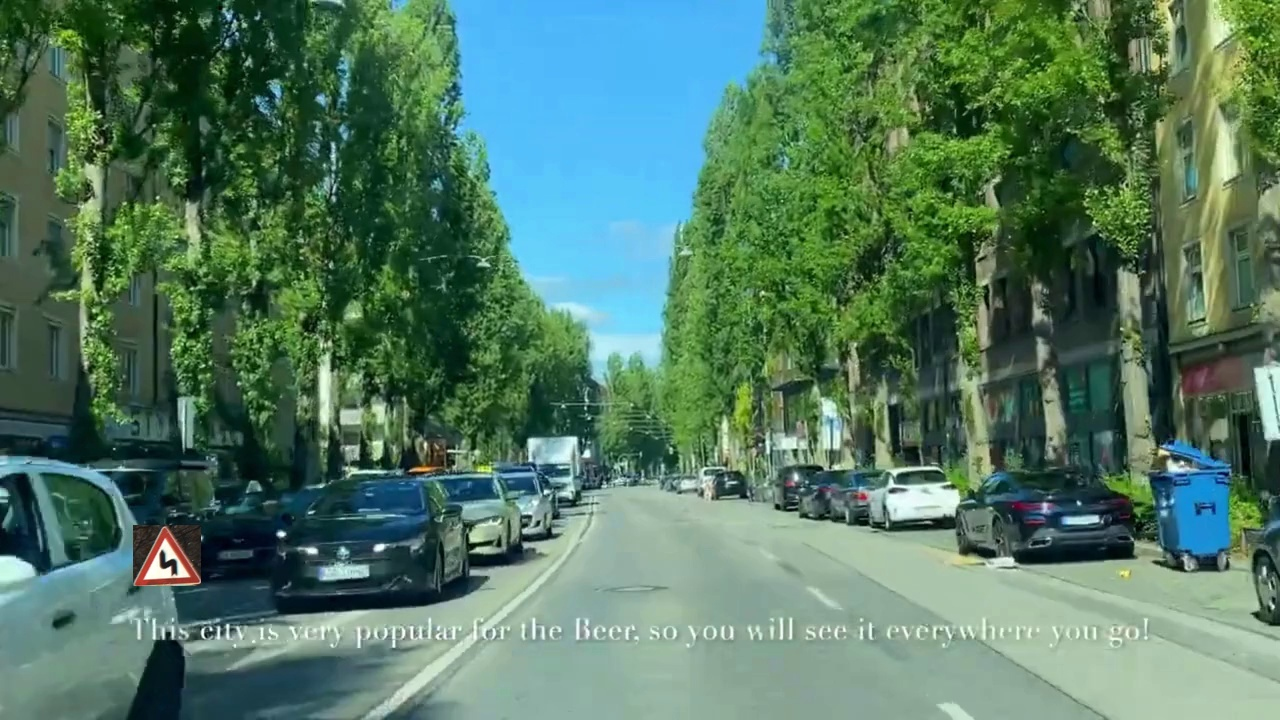Double curve: (133, 525, 201, 586)
